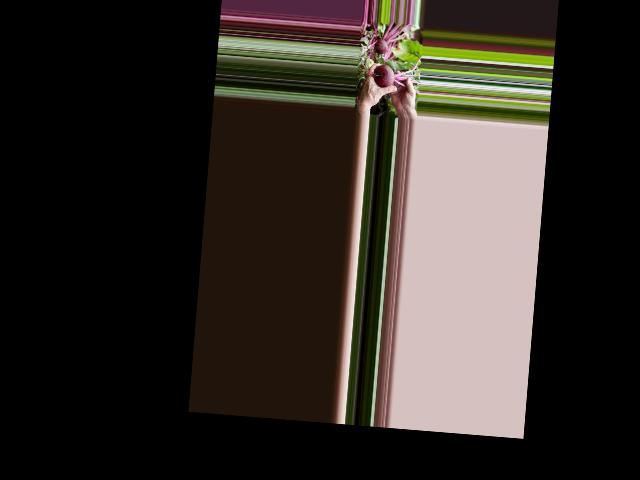beet: (372, 51, 421, 91)
